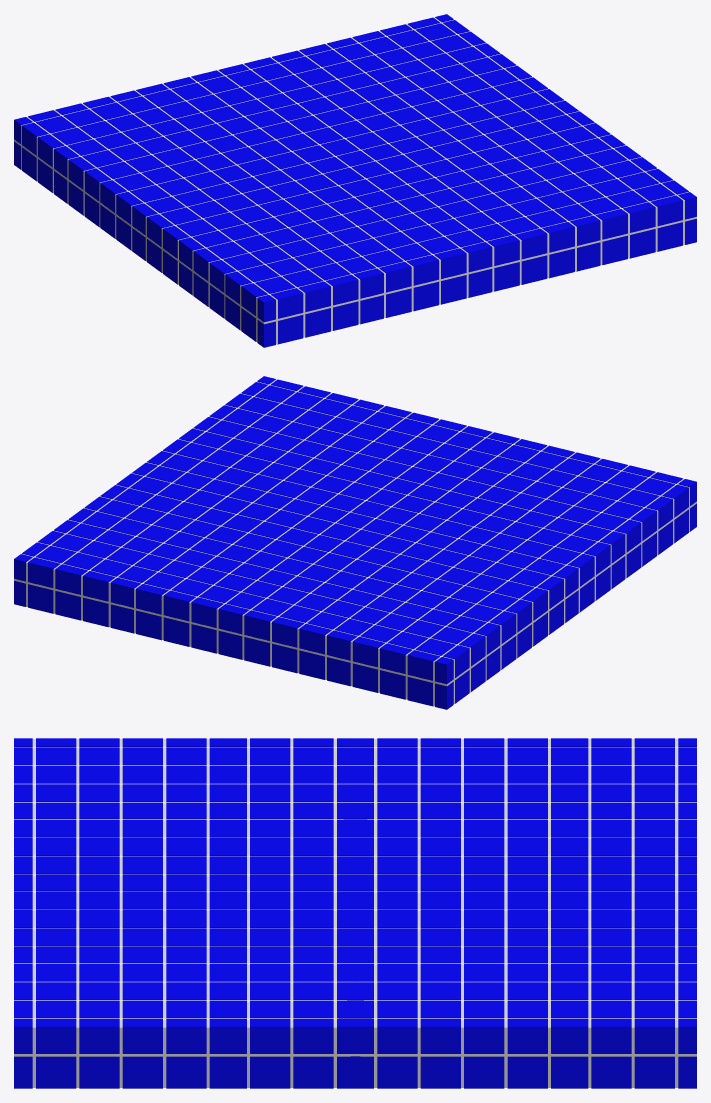
Rendered from Floor2x2Merged.fbx.
The picture shows the model from 3 angles, top to bottom: view 1: azimuth 30°, elevation 25°; view 2: azimuth 150°, elevation 25°; view 3: azimuth 270°, elevation 25°; orthographic projection. The views are drawn at different scales.
Visible parts, largest first — view 1: Floor2x2_Combined; view 2: Floor2x2_Combined; view 3: Floor2x2_Combined.
Part boxes in pixels (box(x1,y1,x2,y2)): Floor2x2_Combined: box(14, 14, 696, 347); Floor2x2_Combined: box(14, 376, 696, 709); Floor2x2_Combined: box(14, 738, 696, 1088).
Size of the model in its own units: 1000 by 100 by 1000.
